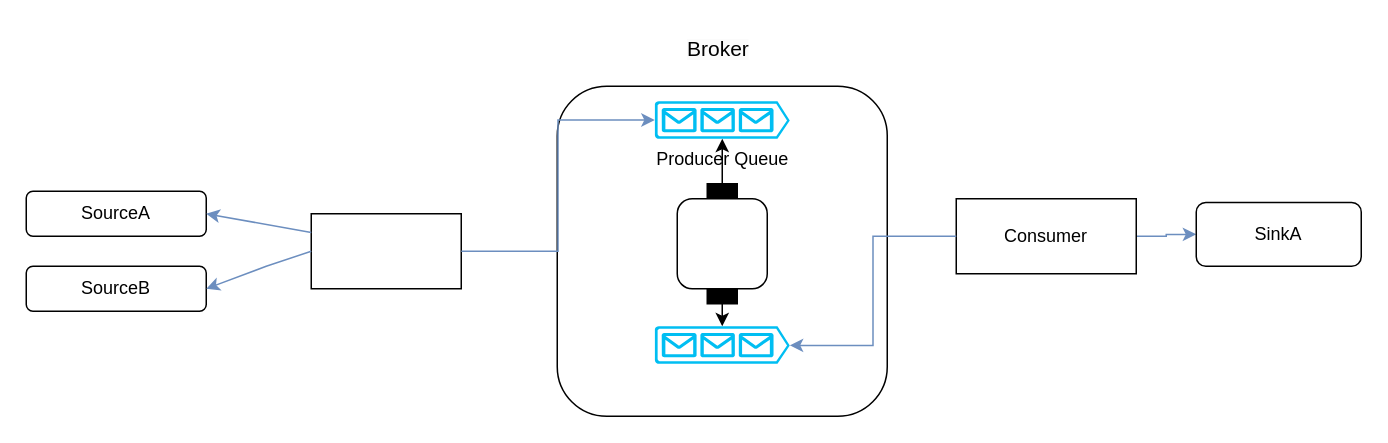
Some shapes in this 1388 by 443 pixel diagram are drawn without their labels. The shapes that lost their labels are listed below. From the top down, each one's box as (x1, y1, x2, y2) in pixels, then its label:
(310, 212, 461, 289): Producer
(676, 182, 767, 304): Stream
(654, 326, 789, 363): Consumer Queue
